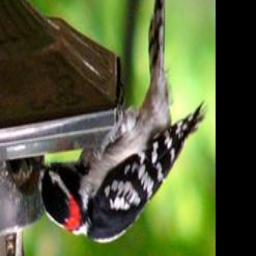Woodpecker: (29, 0, 209, 247)
